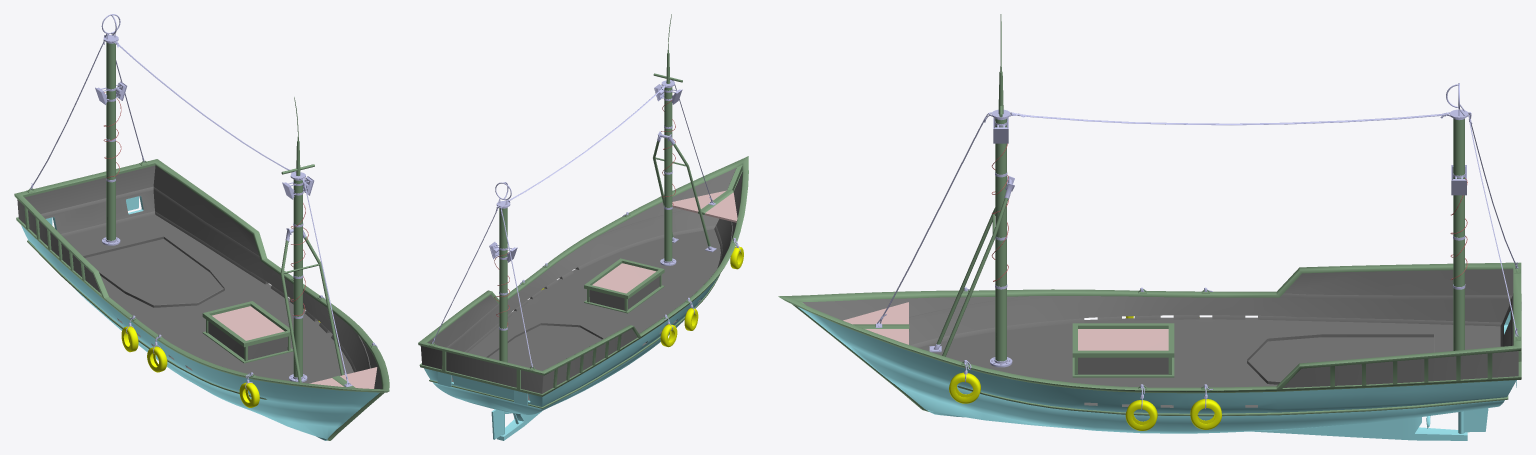
The model's file is boatOpenNoCabin.fbx.
3 views of the same model, side by side, from view 1: azimuth 30°, elevation 25°; view 2: azimuth 150°, elevation 25°; view 3: azimuth 270°, elevation 25° (orthographic). The views are drawn at different scales.
Parts seen in each view (by area): view 1: SM_RustyBoat_LOD0; view 2: SM_RustyBoat_LOD0; view 3: SM_RustyBoat_LOD0.
Part boxes in pixels (x1,y1,x2,y2): SM_RustyBoat_LOD0: (14, 14, 389, 440); SM_RustyBoat_LOD0: (418, 14, 748, 440); SM_RustyBoat_LOD0: (778, 14, 1521, 440).
Size of the model in its own units: 553 by 1028 by 1641.
